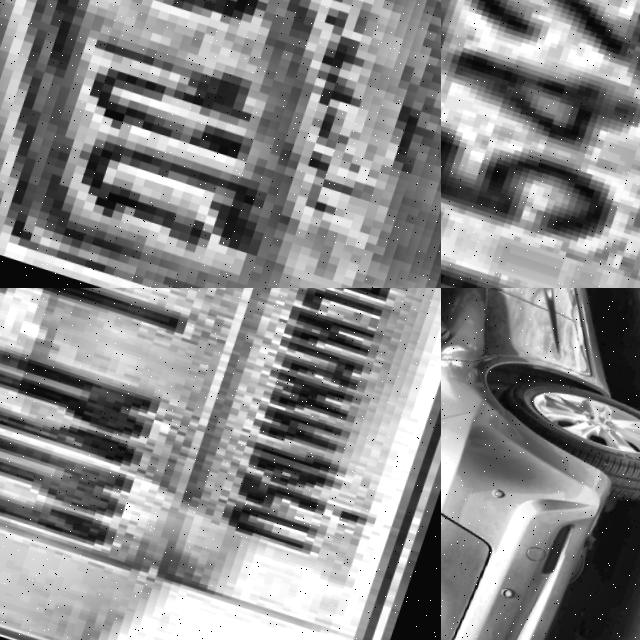license-plate: (0, 288, 441, 640), (441, 0, 640, 288)
